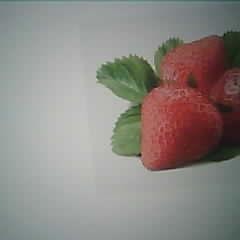straw-ripe: (141, 85, 223, 170)
